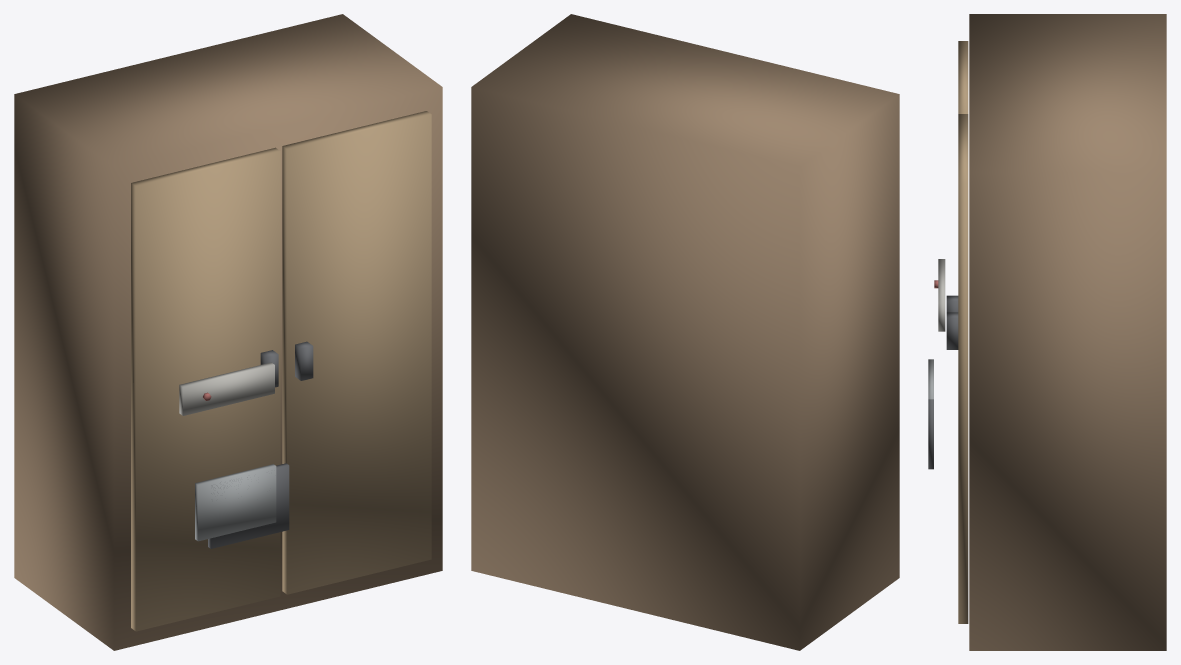
The model's file is case_file_cabinet__weathered.glb.
3 views of the same model, side by side, from view 1: azimuth 30°, elevation 25°; view 2: azimuth 150°, elevation 25°; view 3: azimuth 270°, elevation 25° (orthographic).
Parts seen in each view (by area): view 1: world; view 2: world; view 3: world.
Boxes of the visible parts, <box> form: world: <box>14,14,442,650</box>; world: <box>471,14,899,650</box>; world: <box>928,14,1166,650</box>.
Size of the model in its own units: 0.95 by 1.34 by 0.6041.
